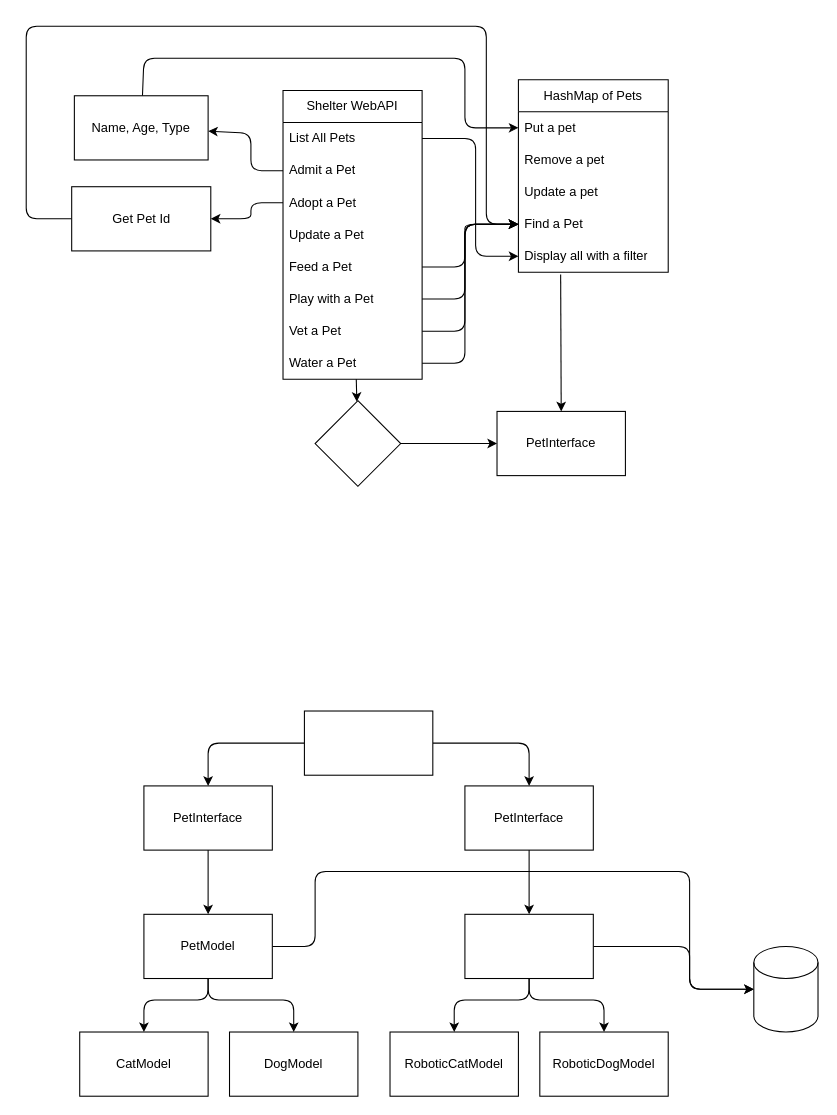
This 837x1115 diagram has some shape labels left out. The centre of each missing label's shape, as x and y in pixels:
"CommonModel" belongs at (368,742).
"H2 Database" belongs at (785,988).
"RoboticPetModel" belongs at (528,946).
"Select a Pet" belongs at (357,443).
